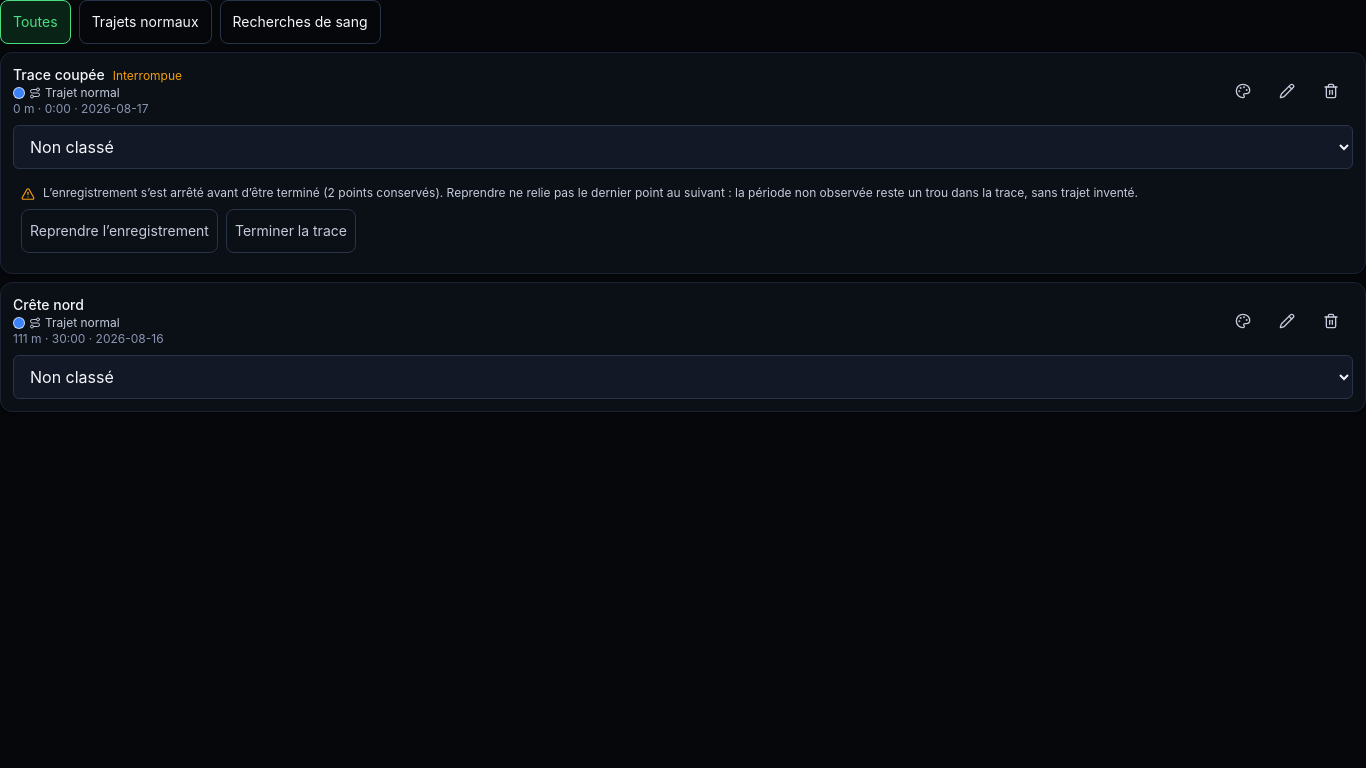
Test: TrackList › shows a visible error and keeps the track when deletion fails
Click the button named "Supprimer Crête nord".
click(1331, 321)  # box top-left (1309, 299), bottom-right (1353, 343)
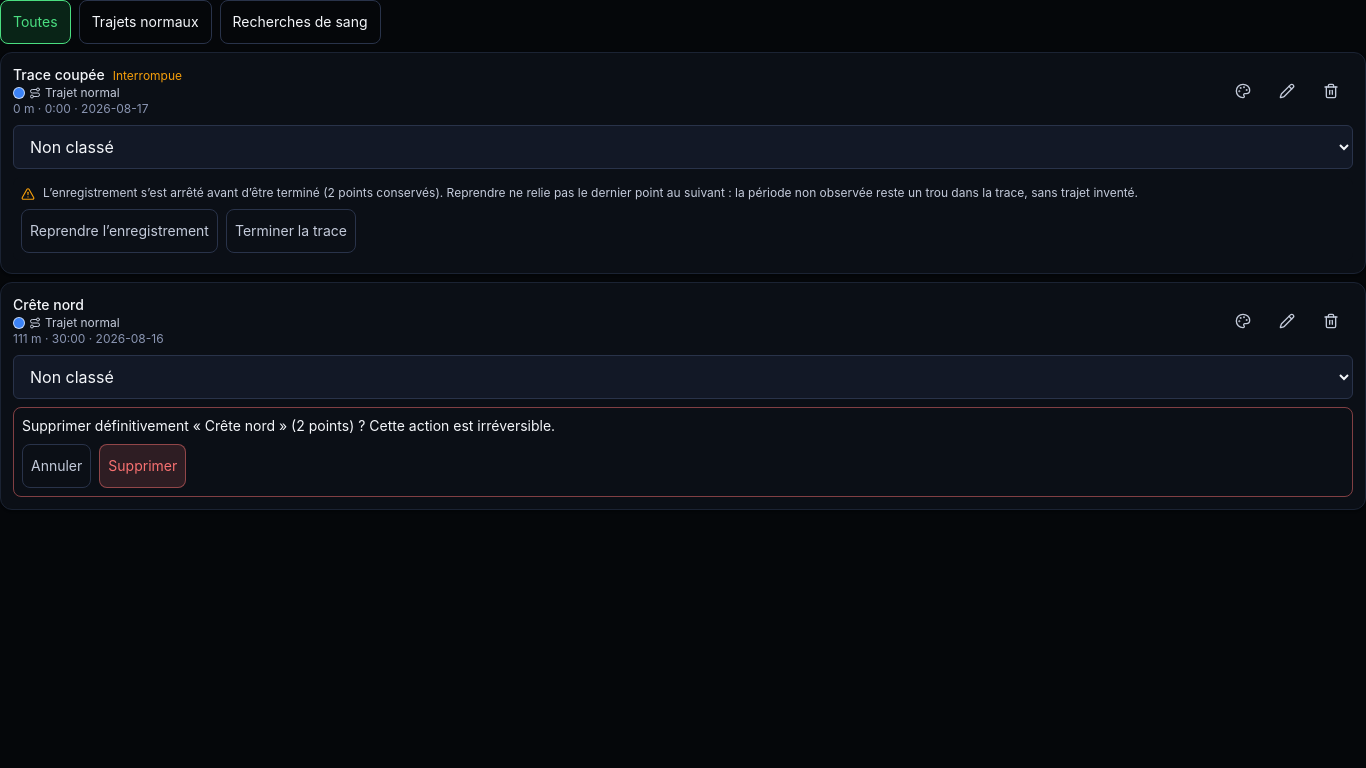
Click the button "Supprimer".
click(143, 466)  # box top-left (99, 444), bottom-right (186, 488)
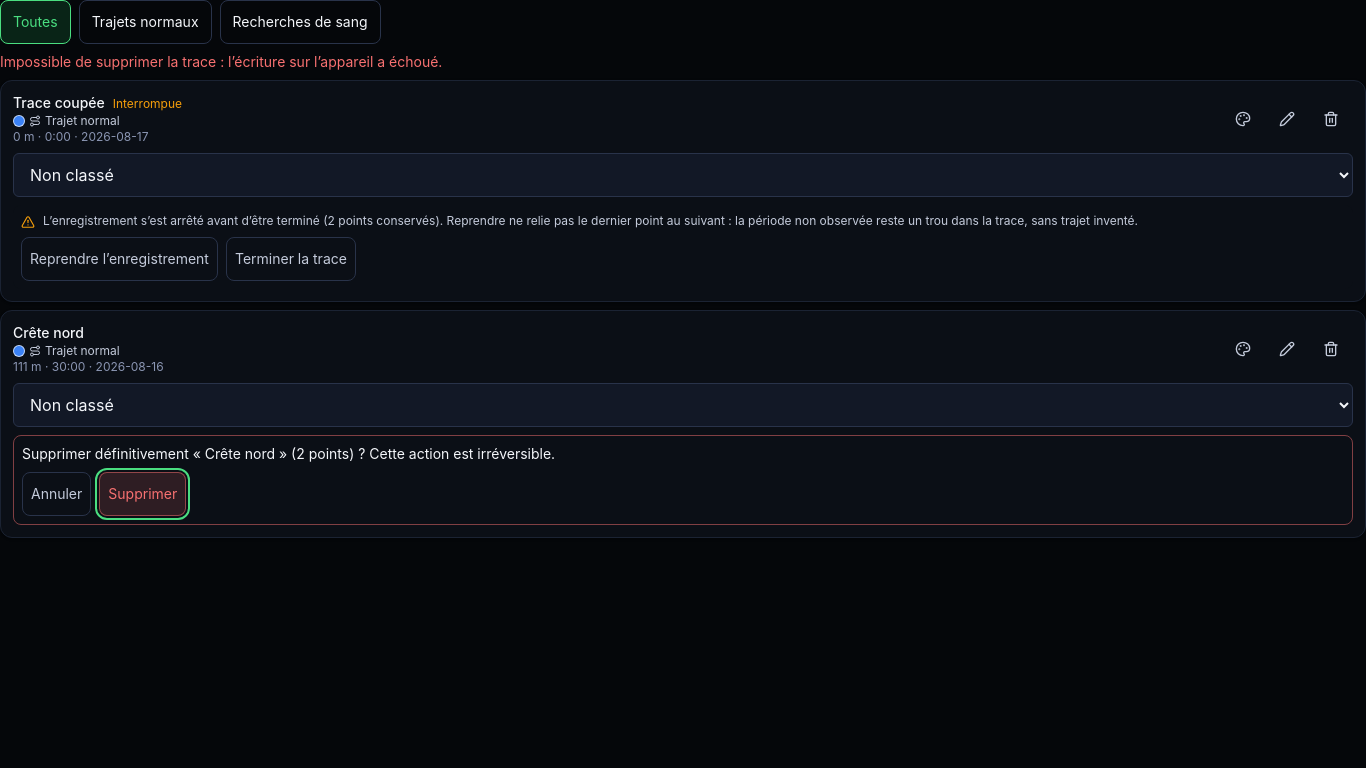
Expected: the message shows "Impossible de supprimer", top-left (0, 53), bottom-right (442, 70)
